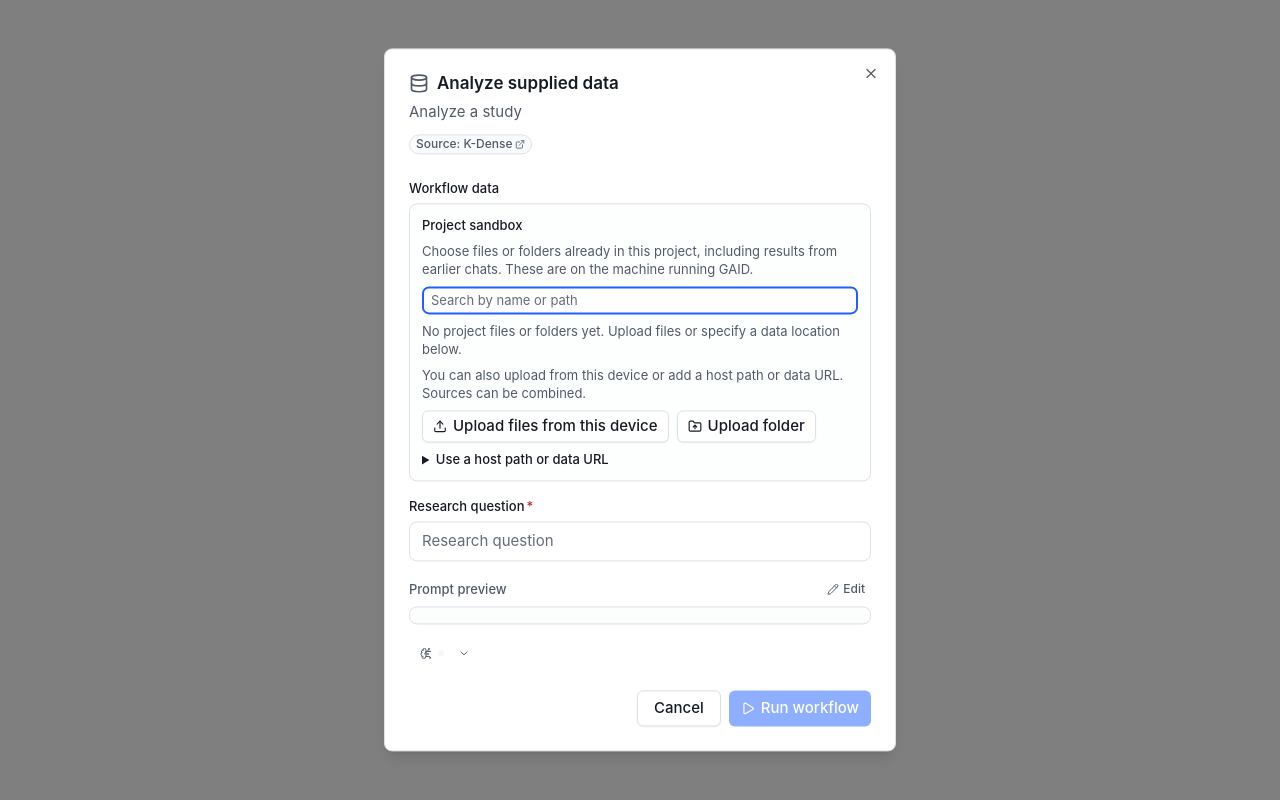
workflow data sources › keeps alternative sources available when the sandbox is empty or unavailable (ready=true)
This screenshot has width=1280, height=800.
Type "treatment response" into the field with placeholder "Research question" at [640, 541], box x1=409 y1=521 x2=871 y2=561
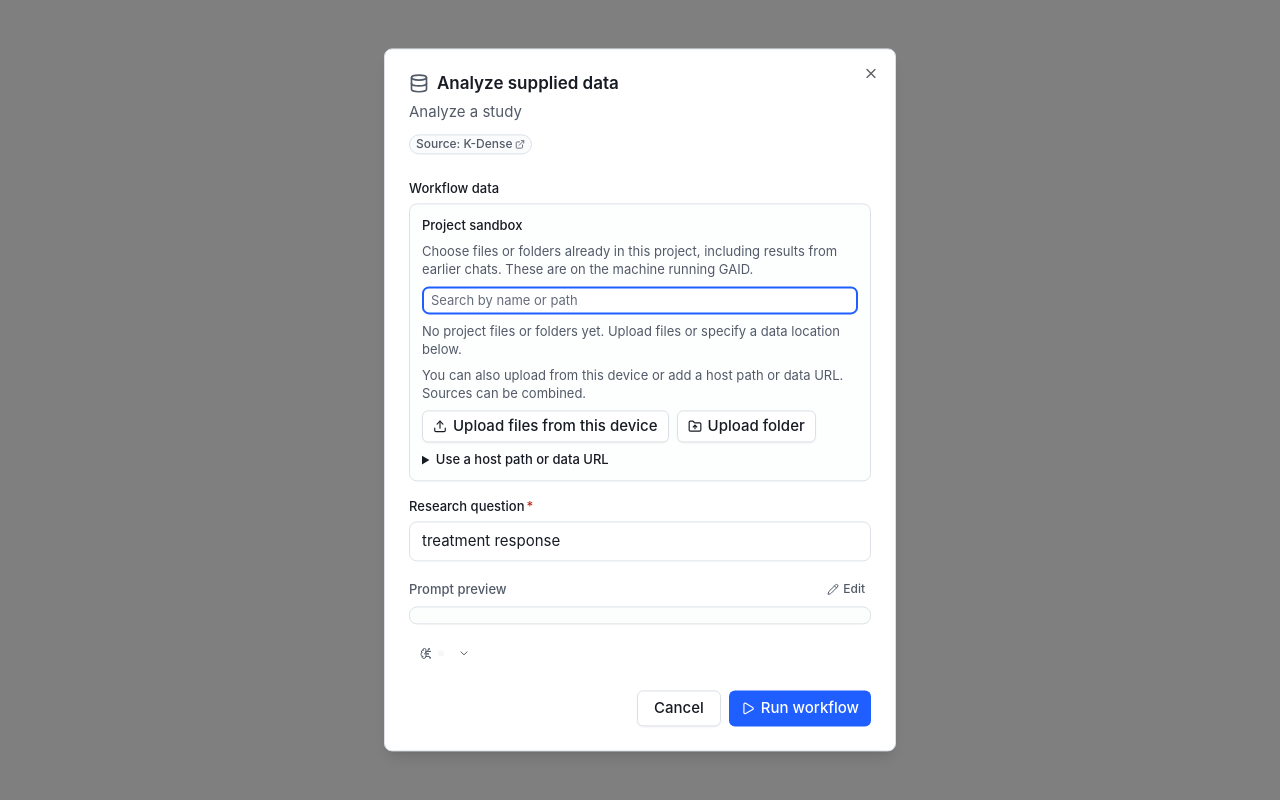
Expected: the text "No project files or folders yet" is shown, x1=422 y1=323 x2=840 y2=357
Expected: the button "Upload files from this device" is enabled, x1=422 y1=410 x2=669 y2=442
Click the heading "Use a host path or data URL" at [522, 459], box x1=436 y1=451 x2=609 y2=467
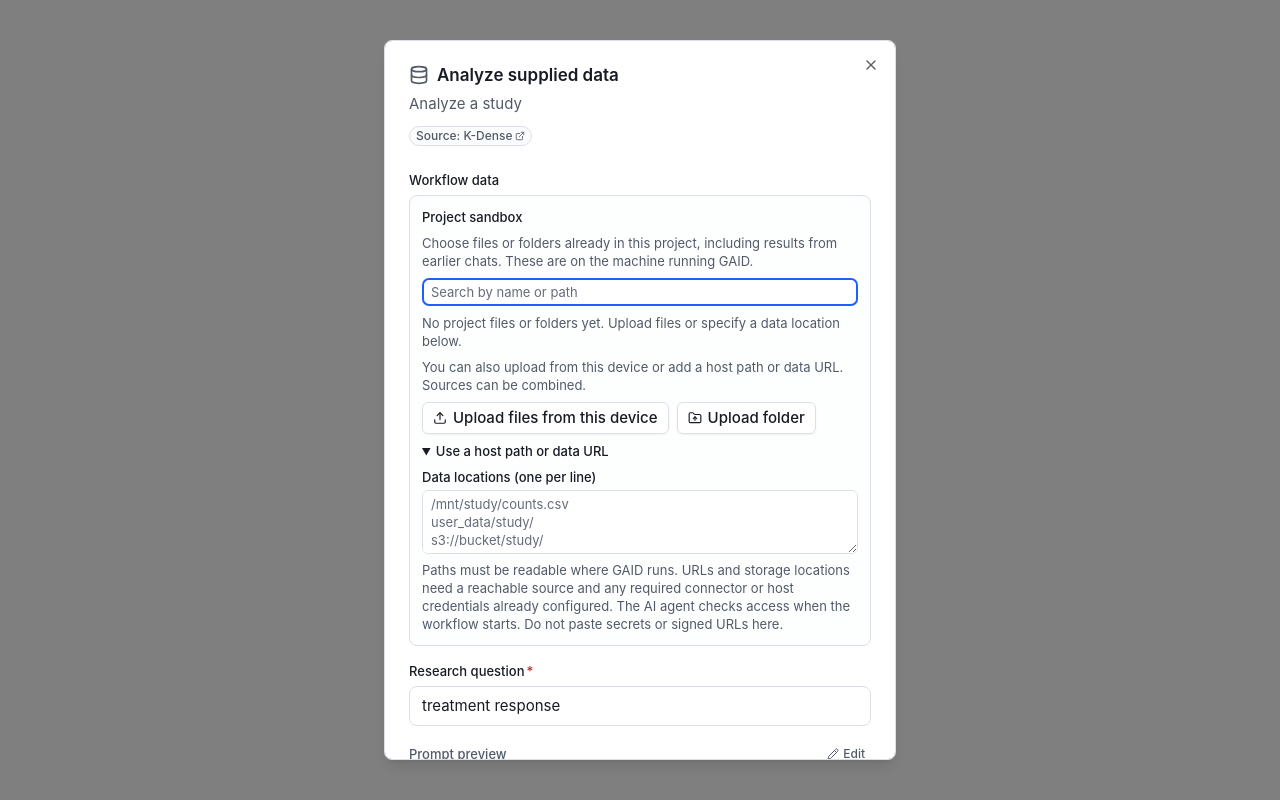
Now the text box labelled "Data locations (one per line)" is shown, box x1=422 y1=490 x2=858 y2=554
